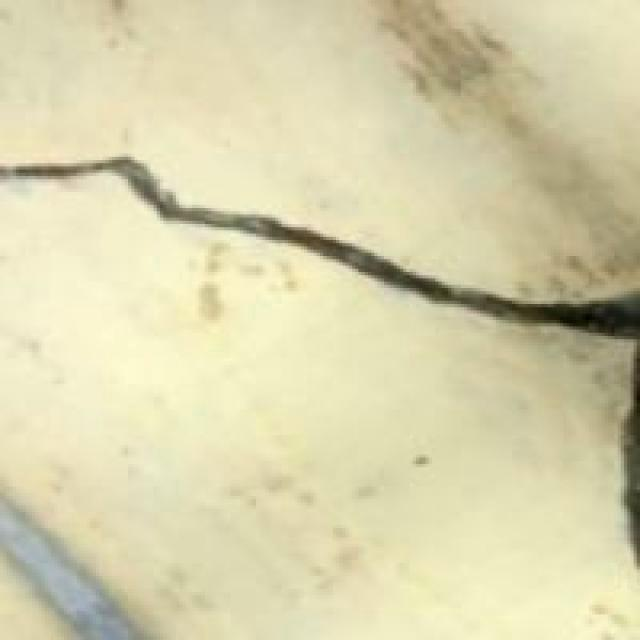crack: (0, 120, 640, 362)
